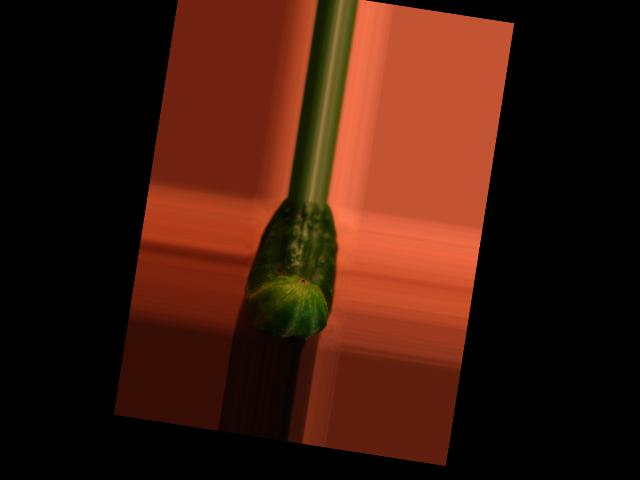cucumber: (239, 192, 347, 344)
